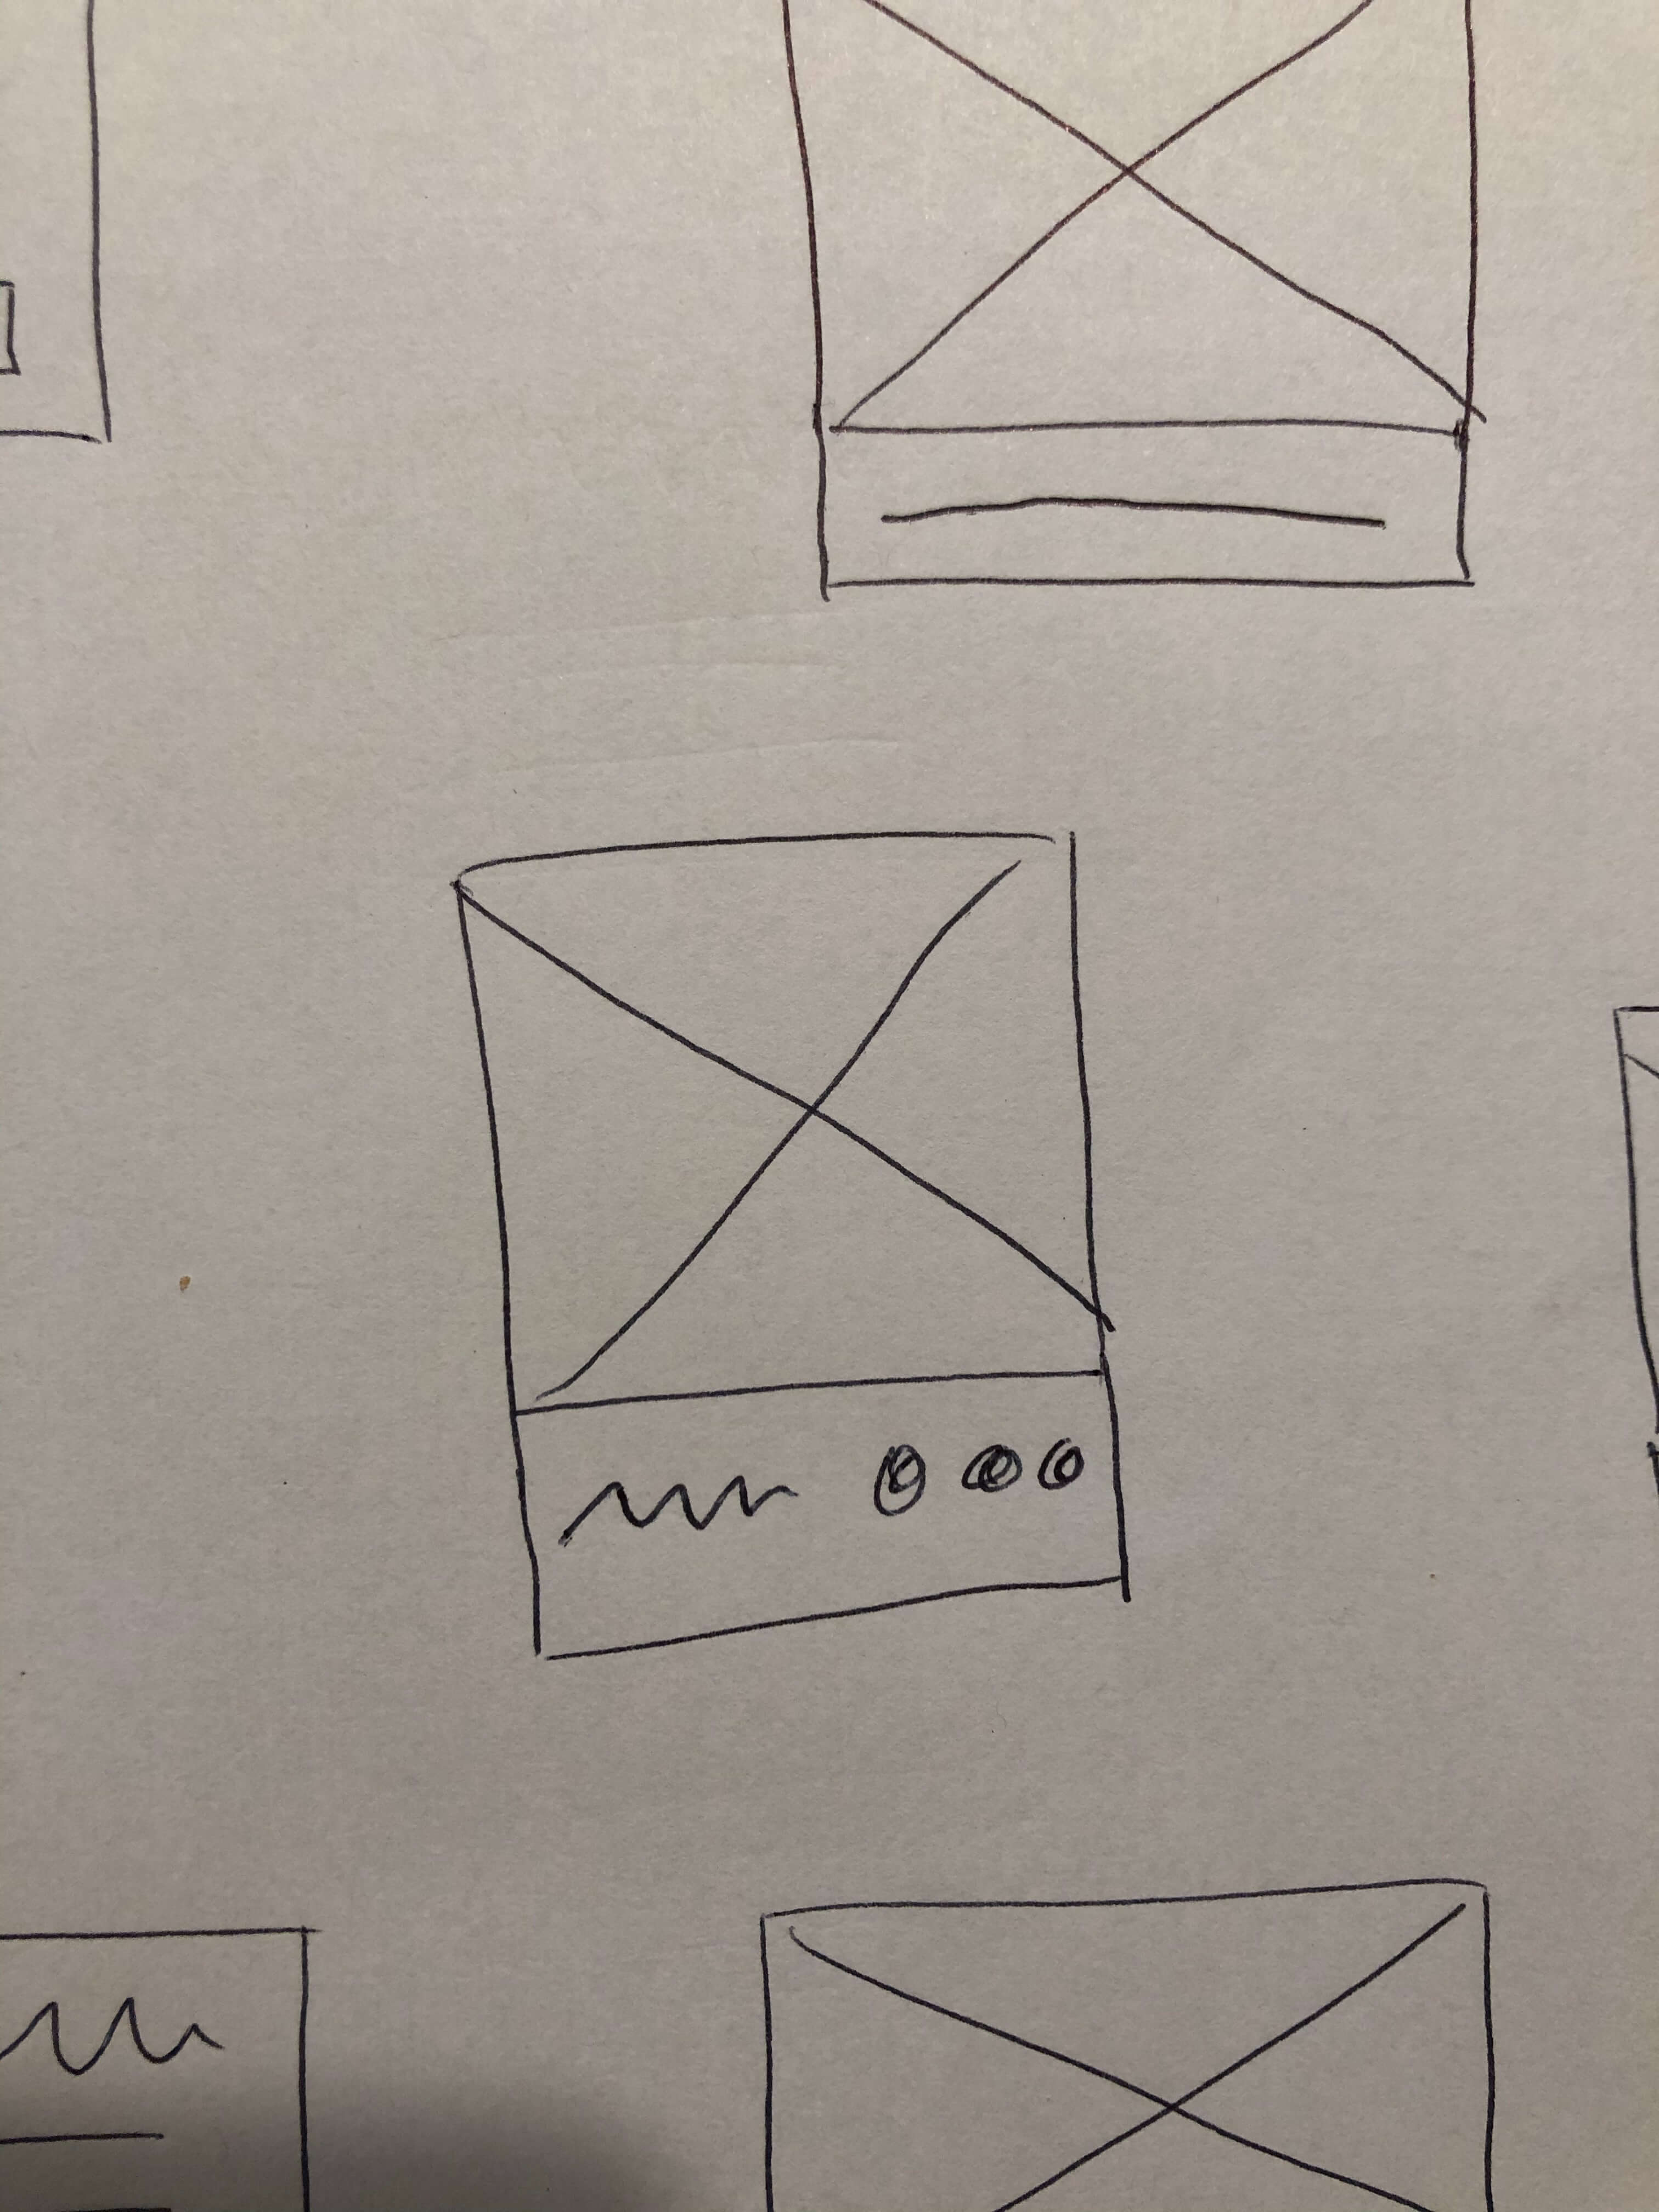card: (437, 803, 1168, 1689)
